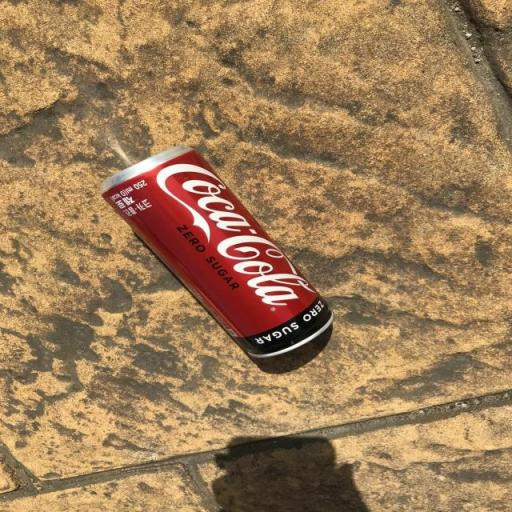metal: (92, 136, 360, 388)
